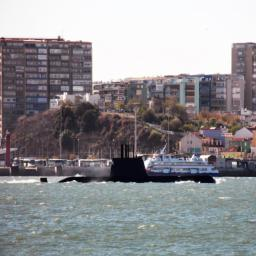submarine: (42, 144, 217, 184)
